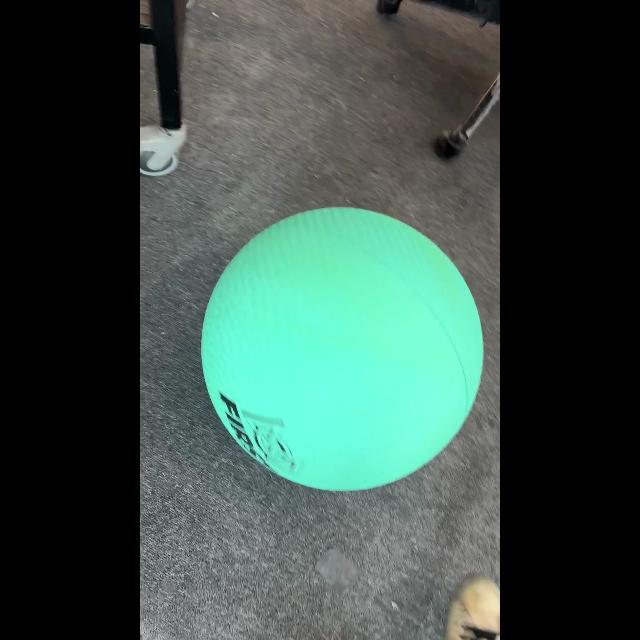ALGAE: (200, 206, 484, 492)
